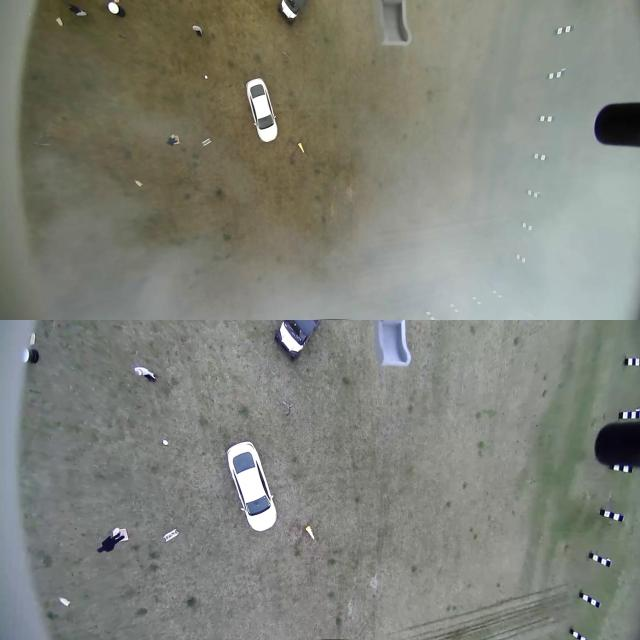car: (214, 430, 295, 536), (240, 69, 278, 141)
